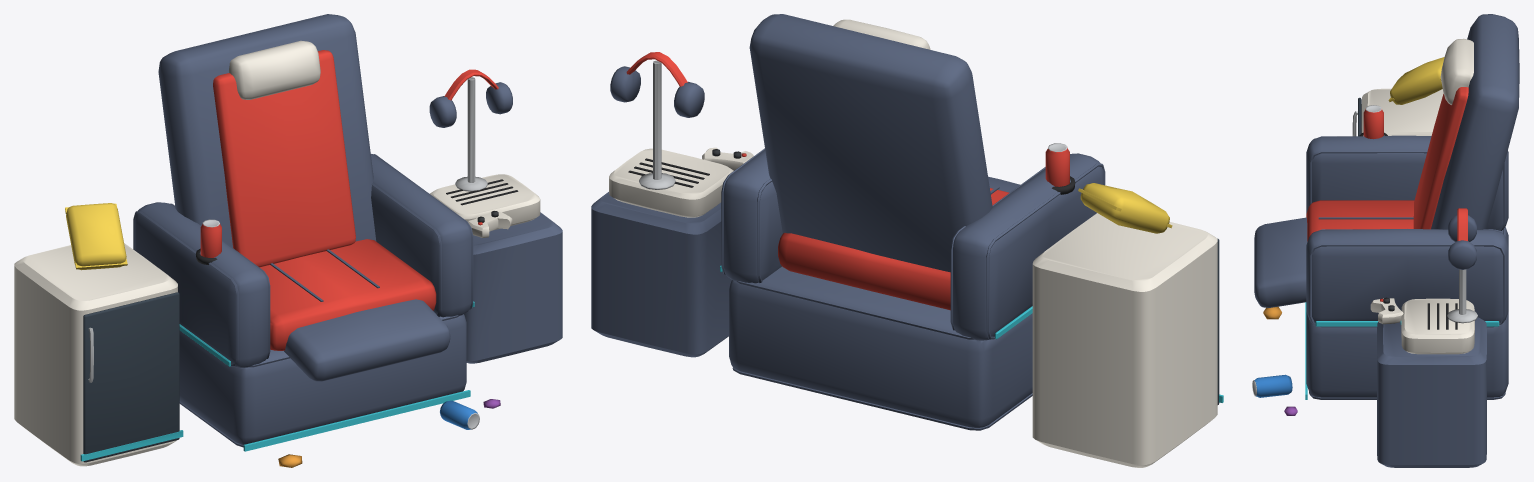
Rendered from gamingRecliner.glb.
3 renders of one model, left to right at view 1: azimuth 30°, elevation 25°; view 2: azimuth 150°, elevation 25°; view 3: azimuth 270°, elevation 25°, orthographic. The views are drawn at different scales.
Parts seen in each view (by area): view 1: body, back, cup_holder; view 2: body, back, cup_holder; view 3: body, back, cup_holder.
Boxes of the visible parts, x1,y1,x2,y2 form: body: (14,69,562,467); back: (158,14,376,267); cup_holder: (196,219,221,264); body: (591,52,1223,467); back: (749,14,992,272); cup_holder: (1045,143,1075,194); body: (1252,57,1508,467); back: (1413,14,1519,229); cup_holder: (1359,105,1387,139).
Bounding box in the file's own units: 1.77 × 1.1 × 0.8735.
